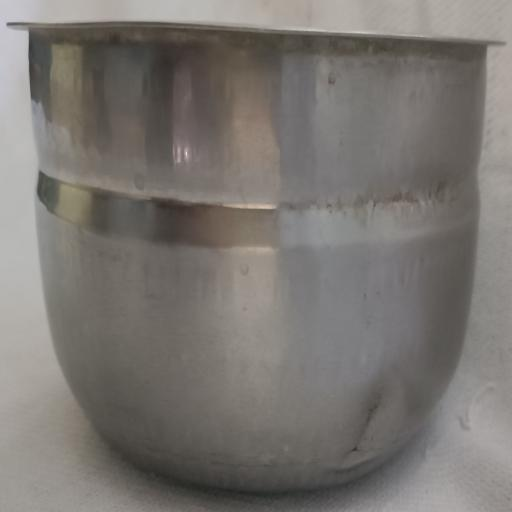vessel: (11, 23, 499, 490)
